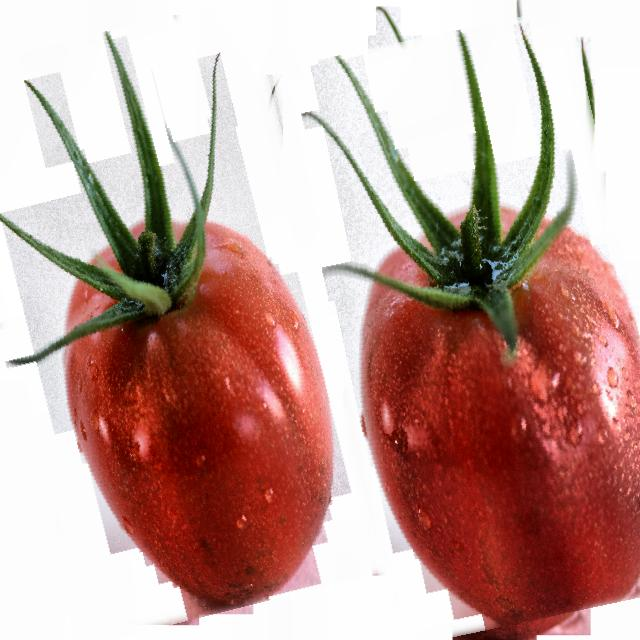tomato: (0, 11, 357, 633), (300, 18, 640, 636)
